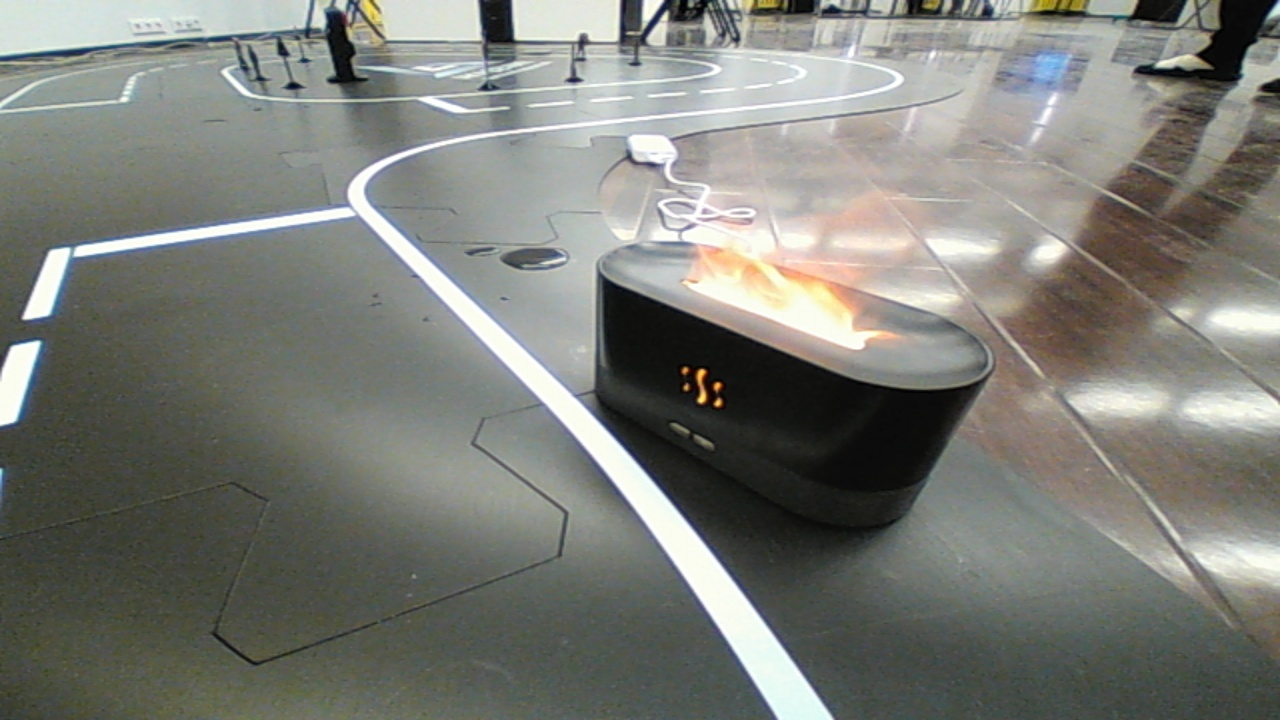Movement prohibition: (576, 229, 1006, 548)
